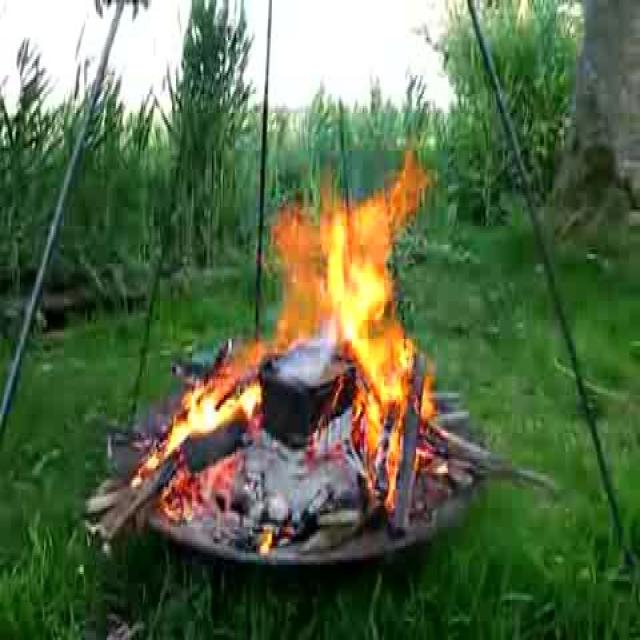fire: (275, 192, 427, 467)
